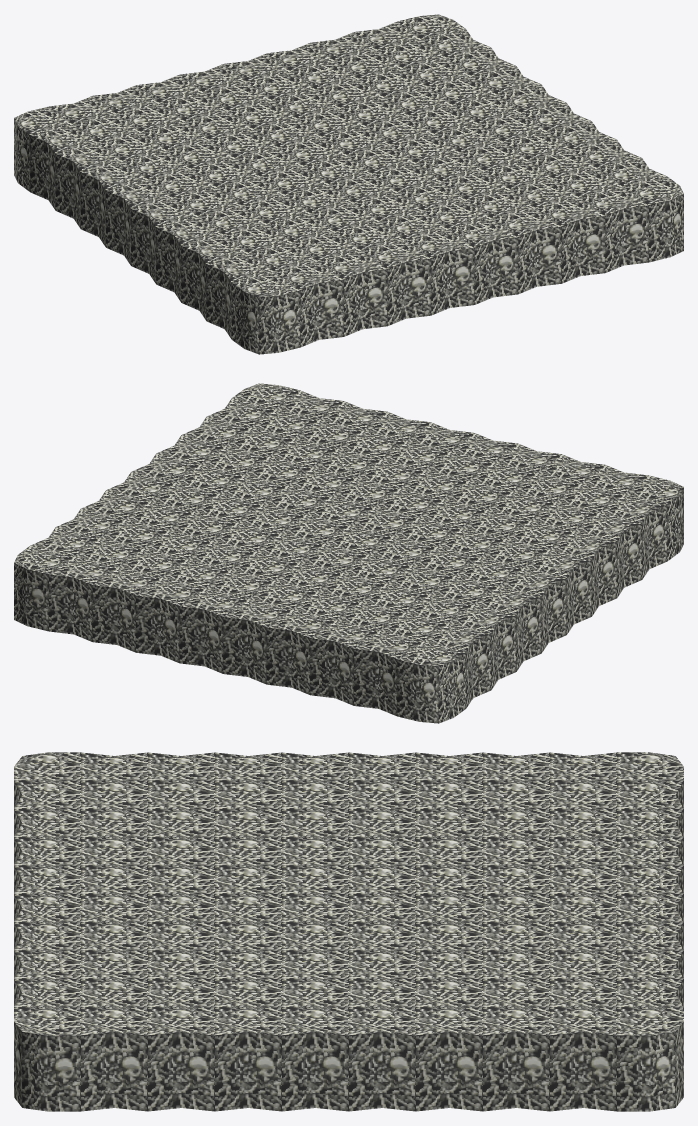
File: Trap.fbx
The picture shows the model from 3 angles, top to bottom: view 1: azimuth 30°, elevation 25°; view 2: azimuth 150°, elevation 25°; view 3: azimuth 270°, elevation 25°; orthographic projection. The views are drawn at different scales.
Visible parts, largest first — view 1: Terrain; view 2: Terrain; view 3: Terrain.
Boxes of the visible parts, x1=… form: Terrain: x1=14, y1=14, x2=683, y2=354; Terrain: x1=14, y1=383, x2=683, y2=723; Terrain: x1=14, y1=752, x2=683, y2=1111.
Bounding box in the file's own units: 10 × 1.25 × 10.
Materials: 1 (1 with a texture image).
